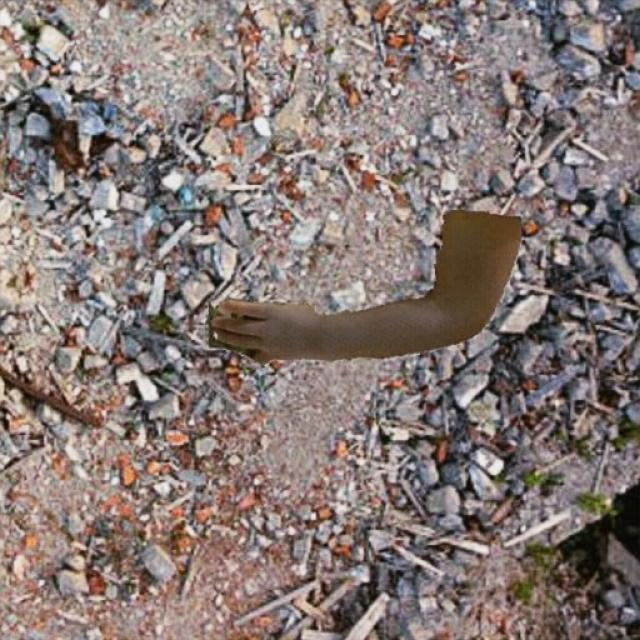Person in Rubble: (209, 208, 520, 366)
